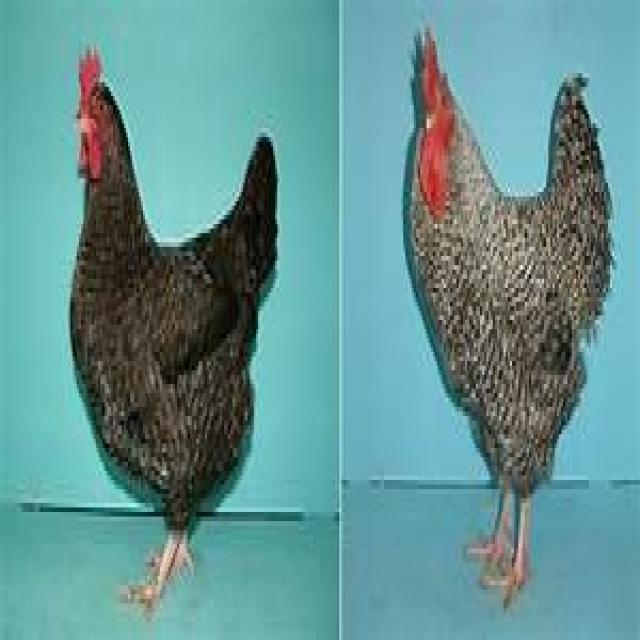animal: (407, 37, 611, 604), (71, 51, 278, 597)
